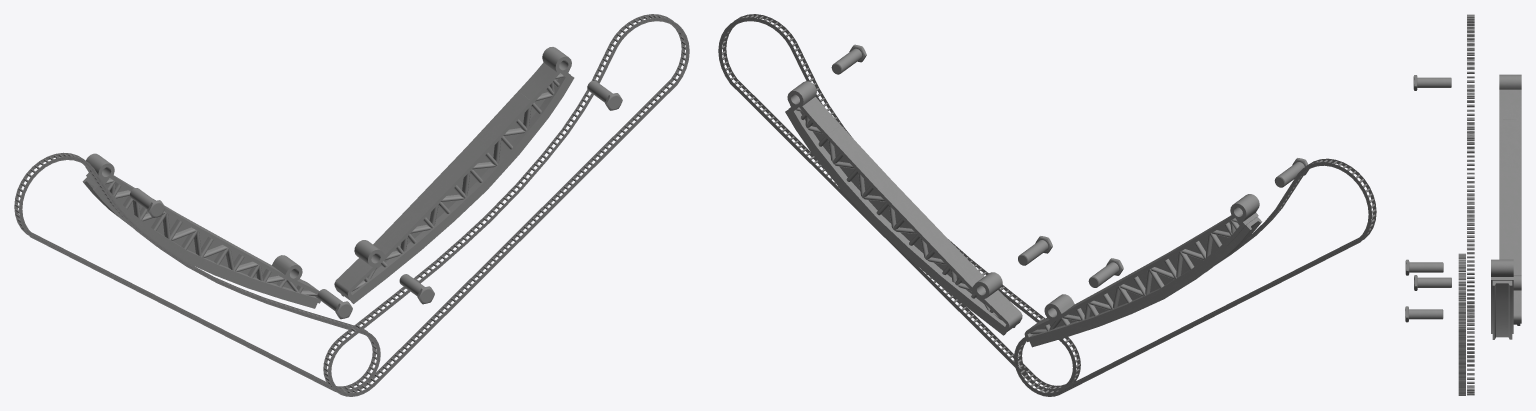
The model's file is chainTensShoe.glb.
3 views of the same model, side by side, from view 1: azimuth 30°, elevation 25°; view 2: azimuth 150°, elevation 25°; view 3: azimuth 270°, elevation 25° (orthographic). The views are drawn at different scales.
Parts seen in each view (by area): view 1: v8_coyote_slizg(1), v8_coyote_lancuch_2(1), v8_coyote_slizg(0), v8_coyote_lancuch_2(0); view 2: v8_coyote_slizg(1), v8_coyote_slizg(0), v8_coyote_lancuch_2(1), v8_coyote_lancuch_2(0); view 3: v8_coyote_slizg(0), v8_coyote_lancuch_2(0), v8_coyote_slizg(1), v8_coyote_lancuch_2(1), srubaSilnikDluga_0, Obj_srubaSilnikDluga1, Obj_srubaSilnikDluga_0, Obj_srubaSilnikDluga1_1.
Boxes of the visible parts, x1,y1,x2,y2 form: v8_coyote_slizg(1): (334,47,574,303); v8_coyote_lancuch_2(1): (323,14,689,396); v8_coyote_slizg(0): (82,153,320,308); v8_coyote_lancuch_2(0): (14,152,380,391); v8_coyote_slizg(1): (785,81,1022,335); v8_coyote_slizg(0): (1024,194,1261,347); v8_coyote_lancuch_2(1): (718,14,1080,389); v8_coyote_lancuch_2(0): (1014,158,1376,396); v8_coyote_slizg(0): (1499,74,1521,325); v8_coyote_lancuch_2(0): (1467,14,1474,395); v8_coyote_slizg(1): (1491,259,1513,339); v8_coyote_lancuch_2(1): (1458,253,1465,395); srubaSilnikDluga_0: (1405,259,1443,275); Obj_srubaSilnikDluga1: (1413,75,1451,90); Obj_srubaSilnikDluga_0: (1405,306,1443,322); Obj_srubaSilnikDluga1_1: (1414,275,1451,290).
Bounding box in the file's own units: 0.0129 × 0.00569 × 0.00234.
2 materials, 2 textured.
